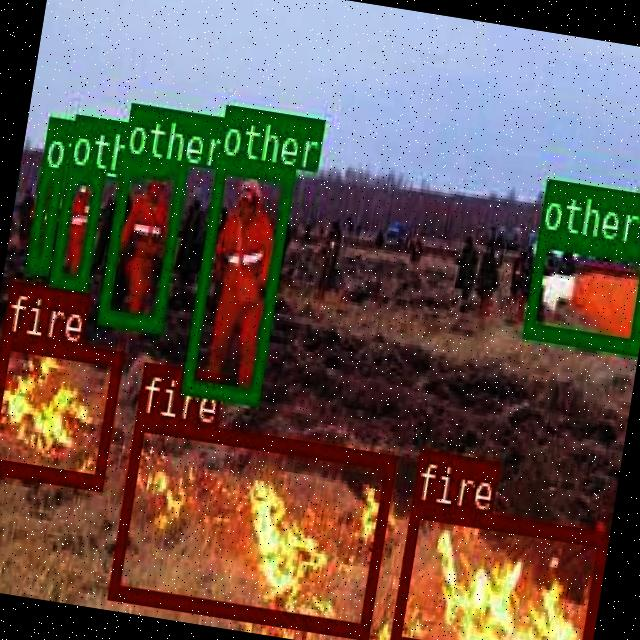fire: (106, 410, 395, 636), (389, 498, 607, 640), (0, 332, 121, 487)
